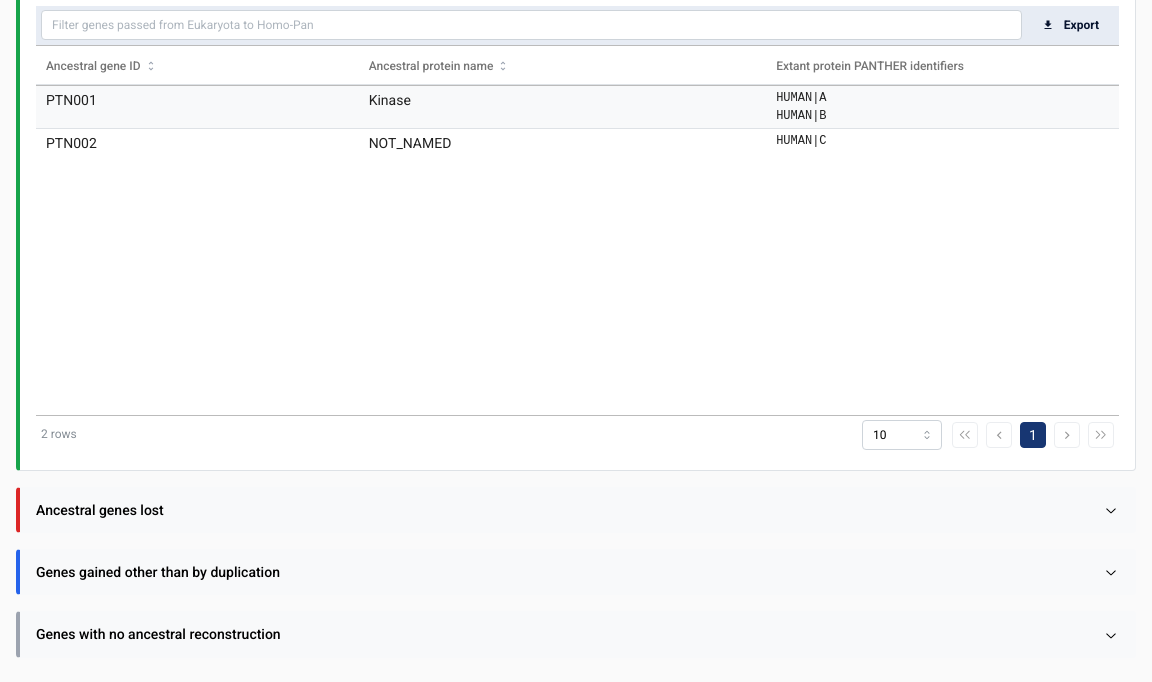
Test: GenomeComparisonPage › only requests the inherited section until another is expanded
(page scrolled)
Expected: the list item "HUMAN|A" is shown, x1=776 y1=91 x2=827 y2=105
Click the button "Ancestral genes lost".
click(100, 510)  # box x1=20 y1=488 x2=1135 y2=532
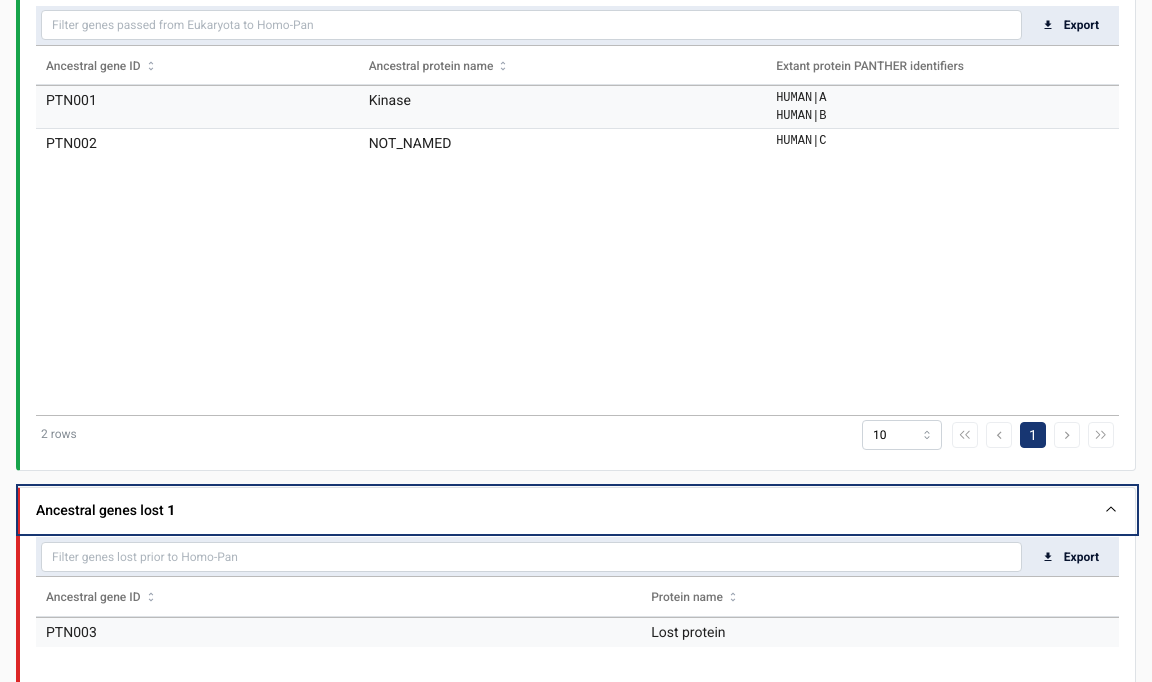
Expected: the text "Lost protein" is shown, x1=641 y1=617 x2=1119 y2=647
